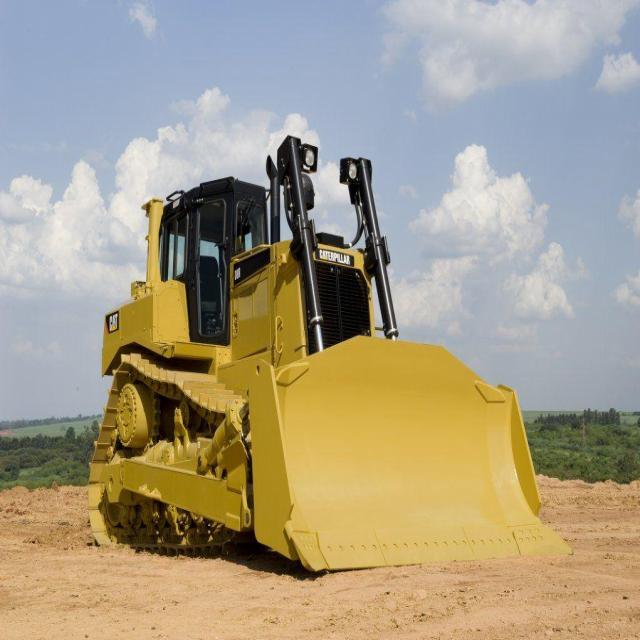Bulldozer: (71, 140, 595, 607)
